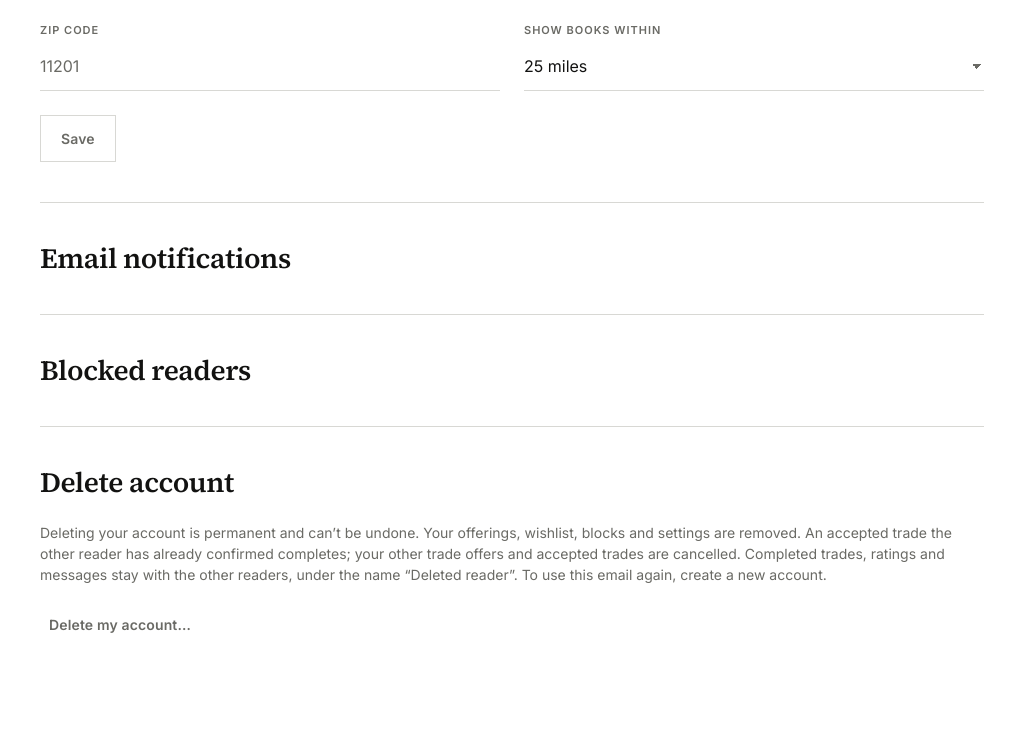
Test case: deleting the account says what goes, and needs the password and the typed confirmation
(page scrolled)
Expected: the element "Delete account" shows "permanent and can.t be undone", [40,524,952,583]
Expected: the element "Delete account" shows "offerings, wishlist, blocks and settings are removed", [40,524,952,583]
Click the button "Delete my account…": (120, 624) [40,601,200,648]
(page scrolled)
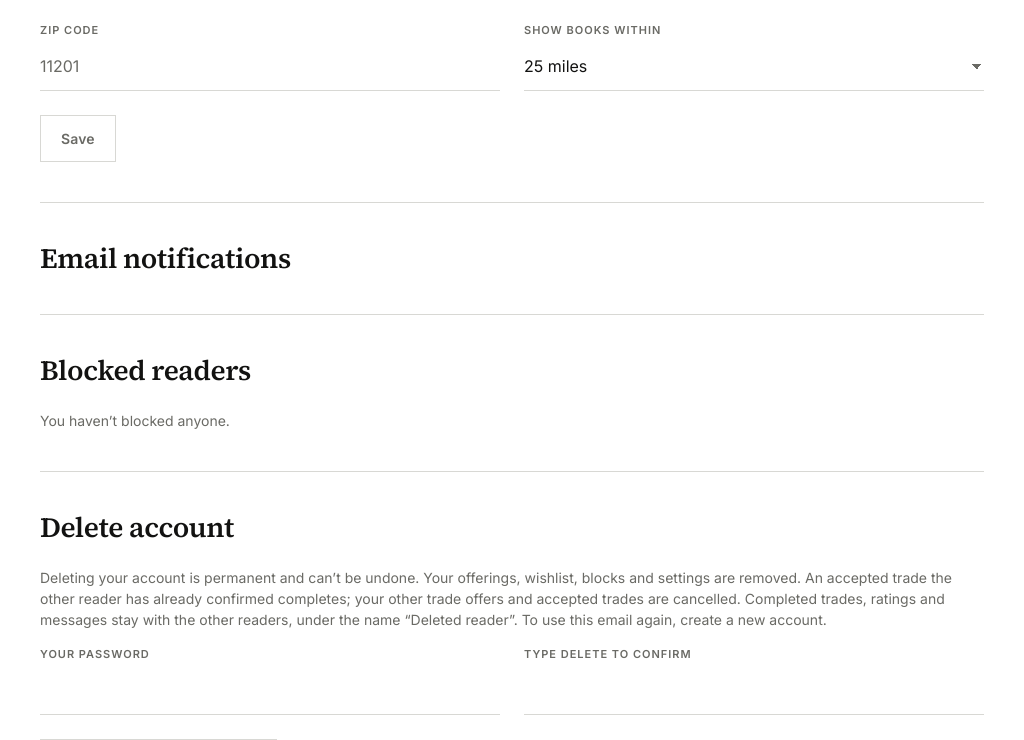
In the password field labelled "Your password": (270, 691) [40,666,500,715], type "hunter2"
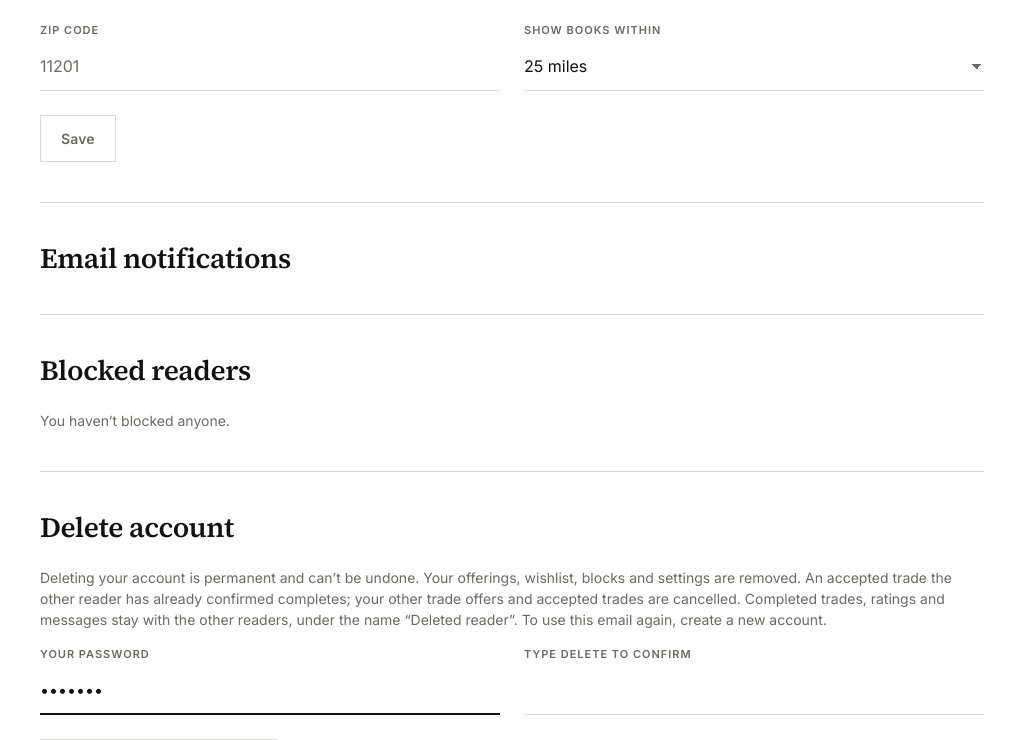
In the field labelled "Type DELETE to confirm": (754, 691) [524,666,984,715], type "delete"
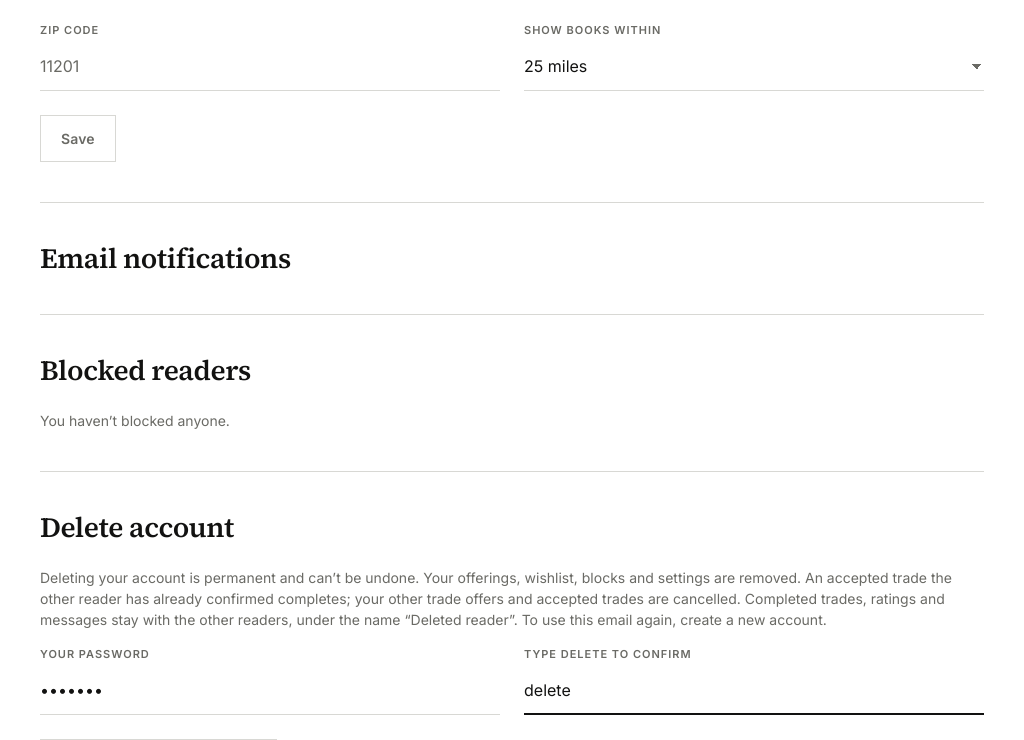
Replace the text in the field labelled "Type DELETE to confirm" with "DELETE": (754, 691) [524,666,984,715]
(page scrolled)
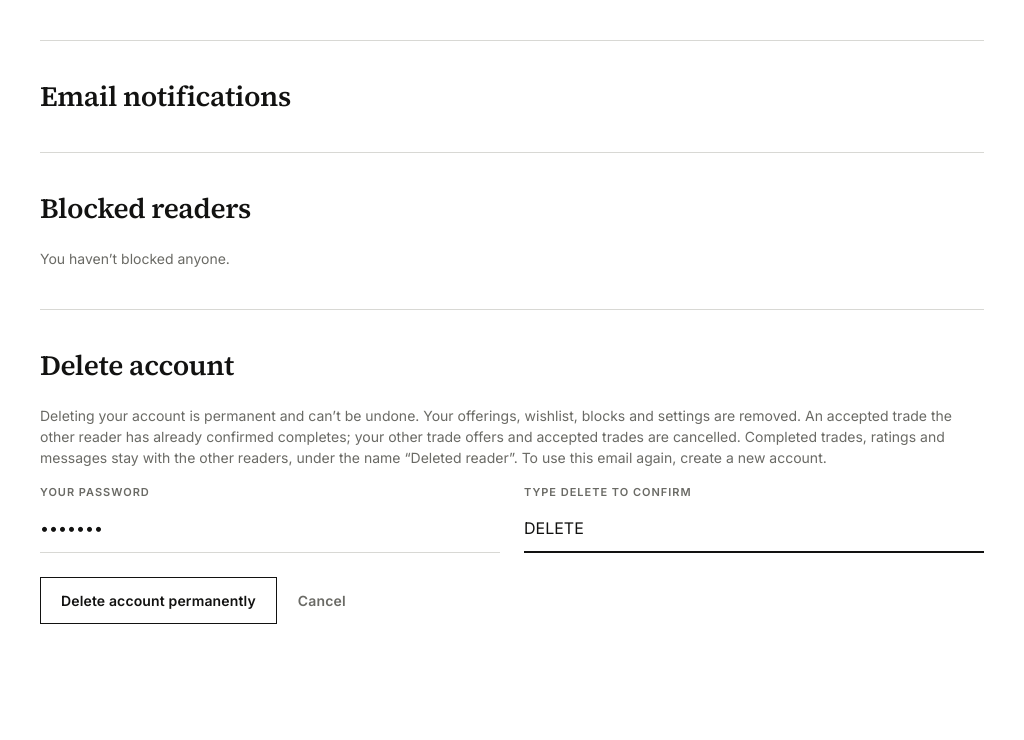
Expected: the button "Delete account permanently" is enabled, [40,577,277,624]
